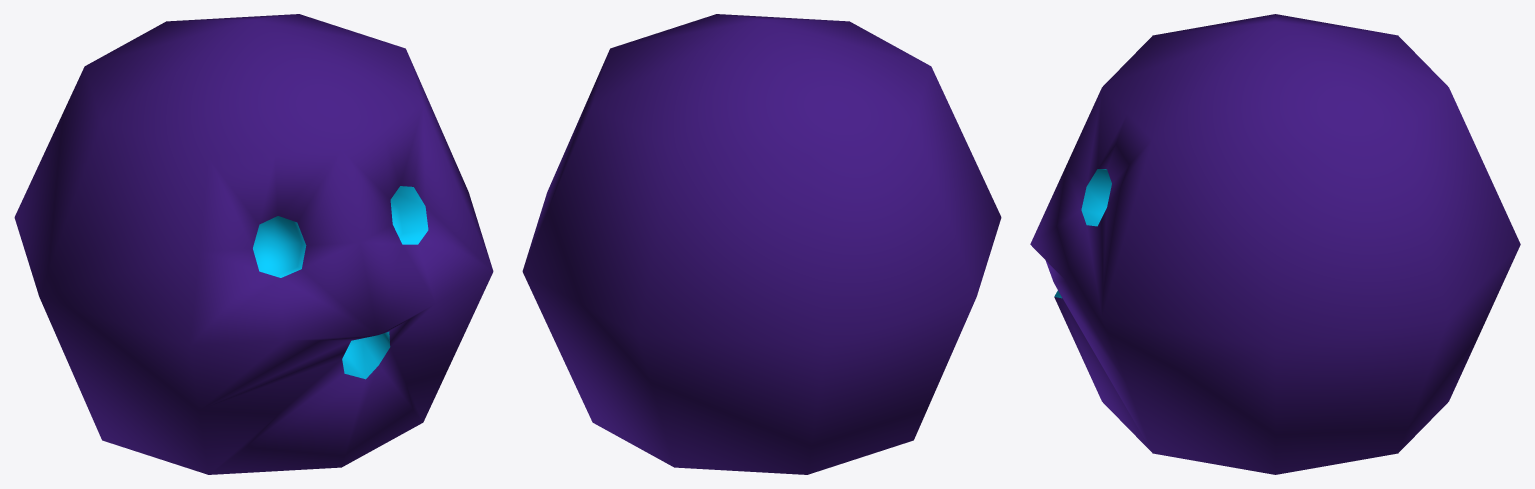
File: BolaRealentizadora.fbx
3 views of the same model, side by side, from view 1: azimuth 30°, elevation 25°; view 2: azimuth 150°, elevation 25°; view 3: azimuth 270°, elevation 25° (orthographic).
Parts seen in each view (by area): view 1: Sphere; view 2: Sphere; view 3: Sphere.
Part boxes in pixels (x1,y1,x2,y2): Sphere: (14,14,493,474); Sphere: (522,14,1001,474); Sphere: (1030,14,1520,474).
Size of the model in its own units: 70 by 70 by 70.
